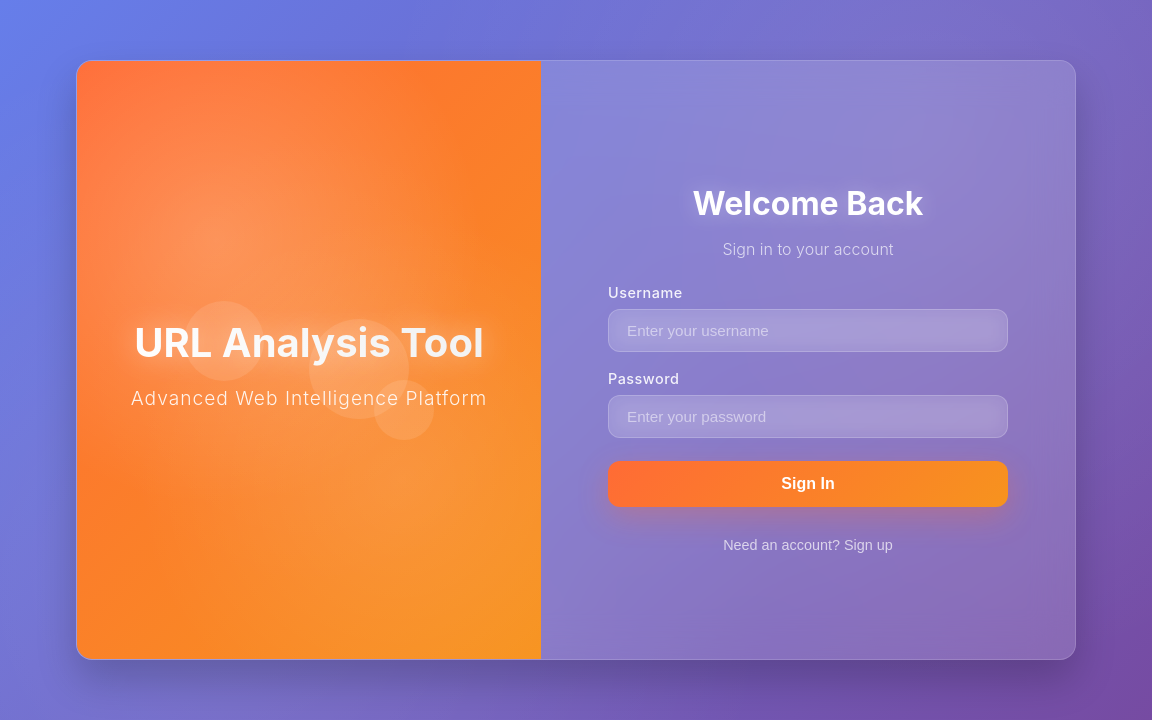
Test: AuthForm › switches to register form when toggle button is clicked
The width and height of the screenshot is (1152, 720).
Click the button "Need an account? Sign up".
click(808, 545)  # box [713,527,903,563]
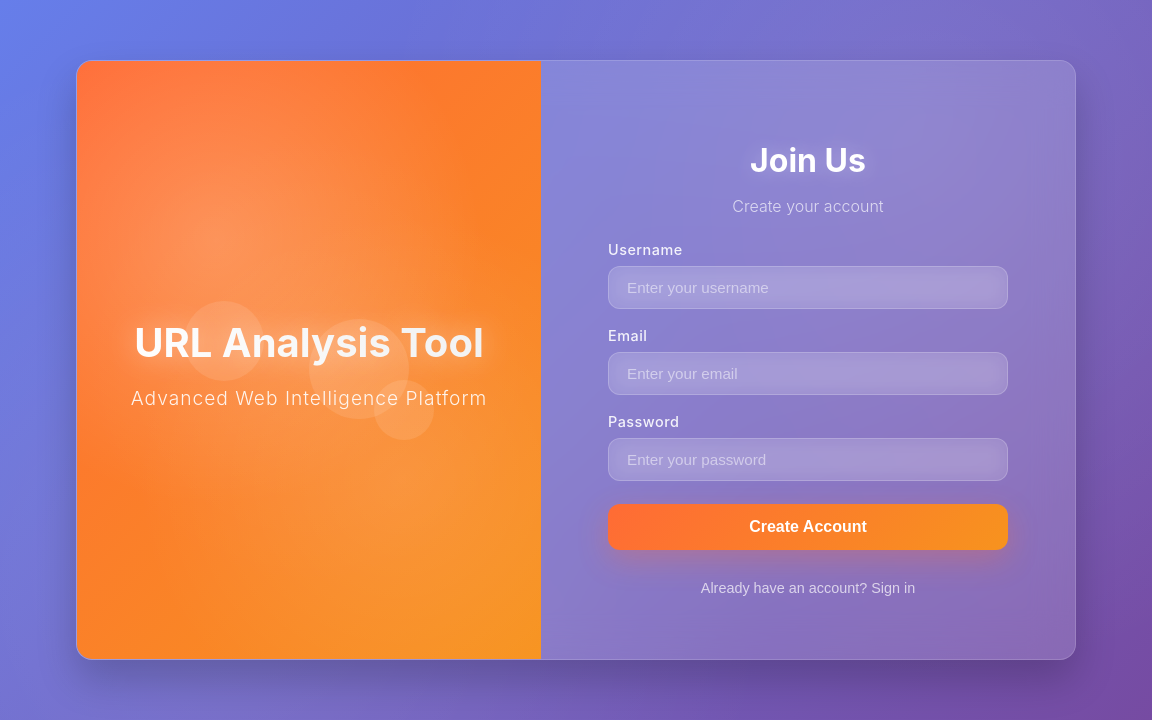
Check: the field with placeholder "Enter your email" is shown, box [608,352,1008,395]
Check: the button "Create Account" is shown, box [749,518,867,535]
Check: the button "Already have an account? Sign in" is shown, box [691,570,925,606]
